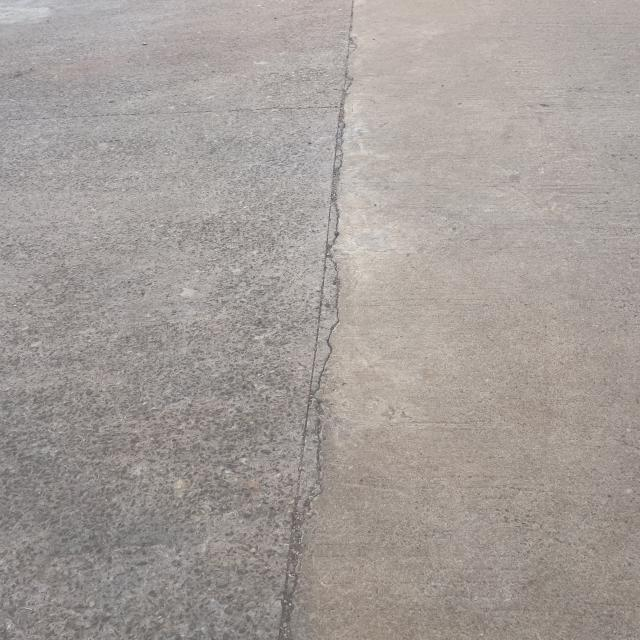D43: (213, 25, 412, 640)
